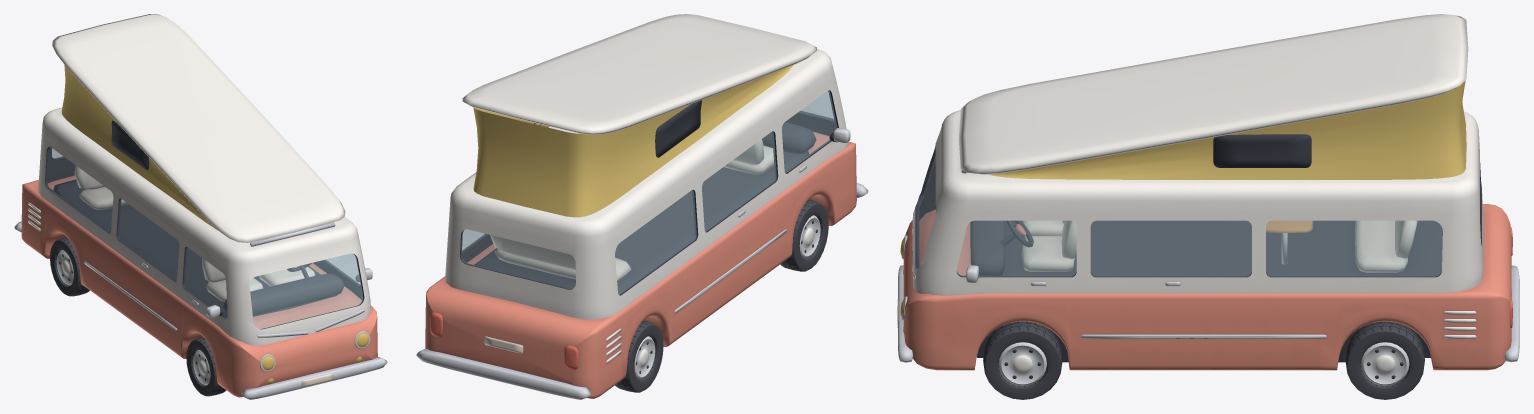
Rendered from camper-van.glb.
3 views of the same model, side by side, from view 1: azimuth 30°, elevation 25°; view 2: azimuth 150°, elevation 25°; view 3: azimuth 270°, elevation 25° (orthographic). The views are drawn at different scales.
Parts seen in each view (by area): view 1: camper-van_body, camper-van_roof_top, camper-van_windows, camper-van_roof_tent, camper-van_wheel_fr, camper-van_wheel_rr; view 2: camper-van_body, camper-van_roof_top, camper-van_roof_tent, camper-van_windows, camper-van_wheel_rr, camper-van_wheel_fr; view 3: camper-van_body, camper-van_roof_top, camper-van_windows, camper-van_roof_tent, camper-van_wheel_fl, camper-van_wheel_rl.
Part boxes in pixels (bbox=[...]): camper-van_body: bbox=[14, 107, 387, 399]; camper-van_roof_top: bbox=[52, 14, 345, 242]; camper-van_windows: bbox=[46, 147, 362, 328]; camper-van_roof_tent: bbox=[61, 64, 218, 230]; camper-van_wheel_fr: bbox=[186, 337, 226, 396]; camper-van_wheel_rr: bbox=[50, 237, 89, 296]; camper-van_body: bbox=[416, 49, 868, 399]; camper-van_roof_top: bbox=[462, 14, 817, 134]; camper-van_roof_tent: bbox=[473, 65, 793, 217]; camper-van_windows: bbox=[461, 90, 837, 294]; camper-van_wheel_rr: bbox=[615, 320, 663, 392]; camper-van_wheel_fr: bbox=[780, 199, 828, 271]; camper-van_body: bbox=[897, 110, 1519, 370]; camper-van_roof_top: bbox=[958, 14, 1468, 174]; camper-van_windows: bbox=[917, 156, 1442, 276]; camper-van_roof_tent: bbox=[989, 81, 1466, 179]; camper-van_wheel_fl: bbox=[983, 321, 1062, 399]; camper-van_wheel_rl: bbox=[1345, 321, 1424, 399].
Bounding box in the file's own units: 2.16 × 2.92 × 5.32.
Materials: 21 (5 with a texture image).
